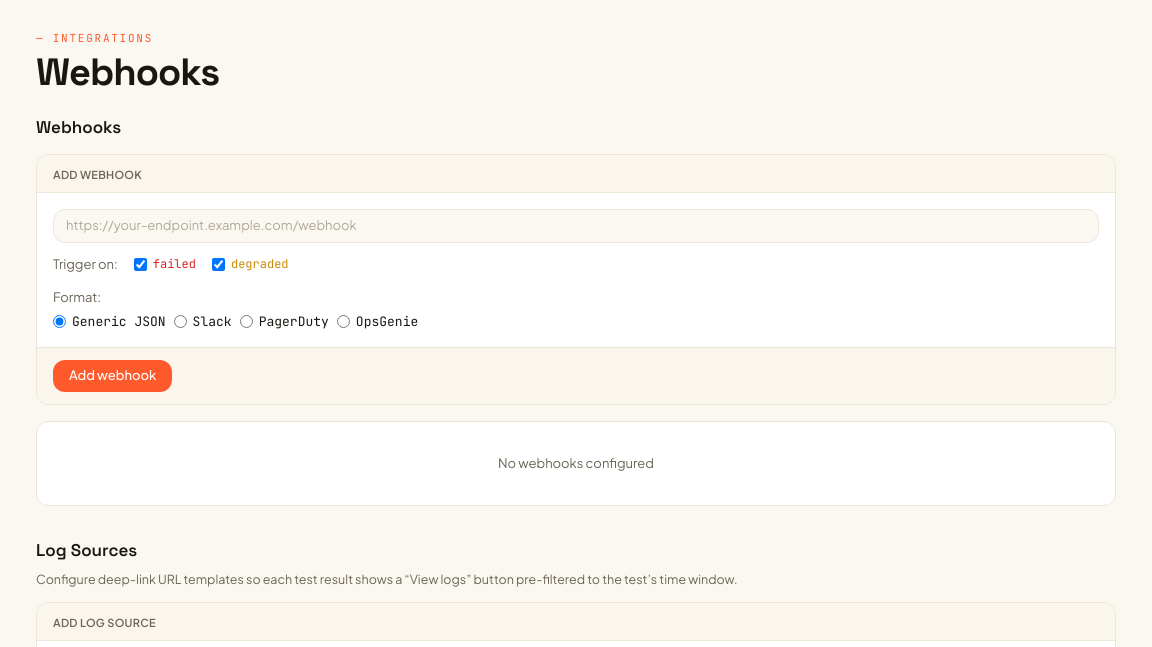
Scenario: WebhooksPage — webhook create flow › shows an error message when createWebhook fails
Check: the text "No webhooks configured" is shown, box [36,420,1116,506]
Type "https://my-hook.example.com" into the field with placeholder "https://your-endpoint.example.com/webhook" at (576, 226), box [53,209,1099,242]
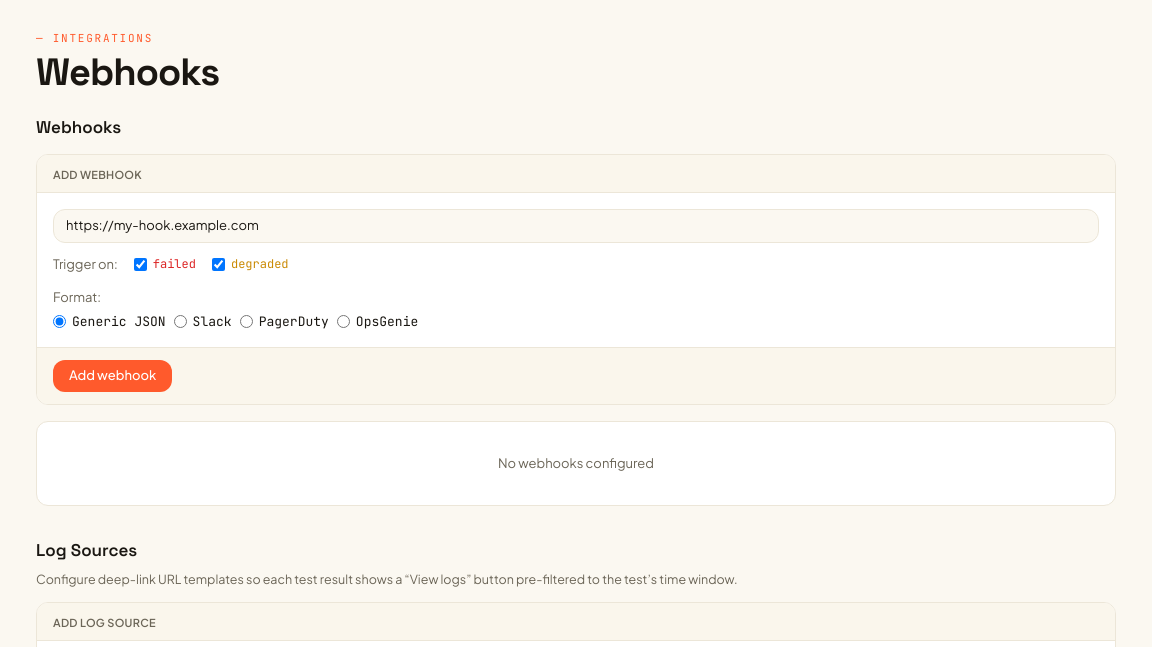
Click the button "Add webhook" at (113, 376), box [53,360,172,392]
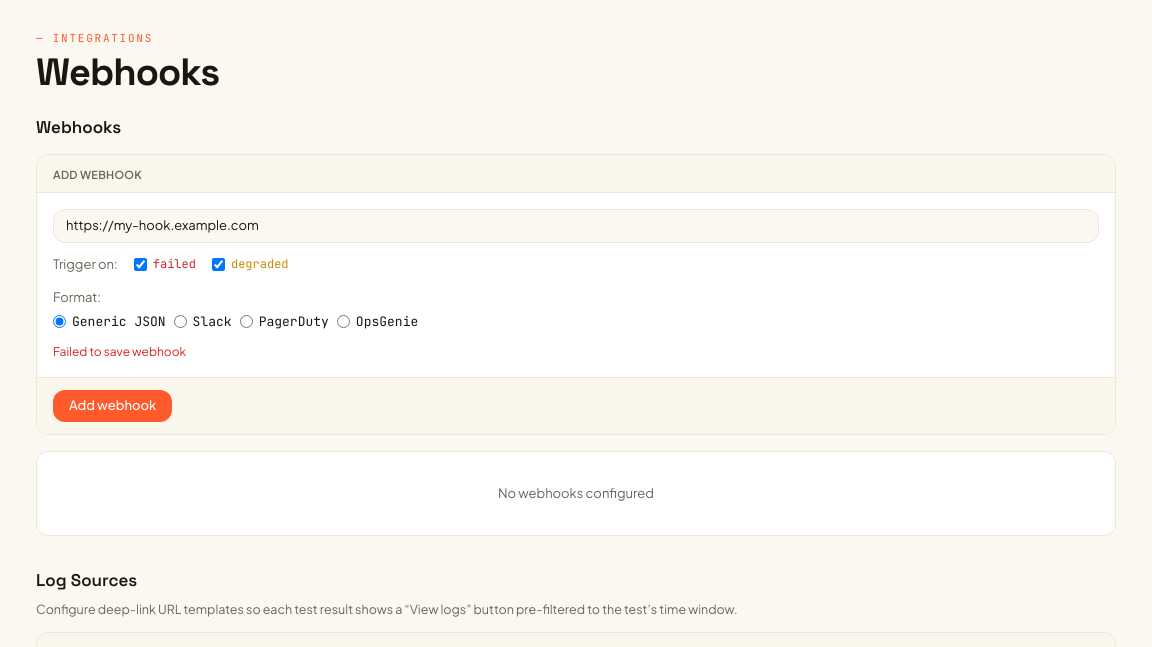
Check: the text "Failed to save webhook" is shown, box [53,344,186,359]
